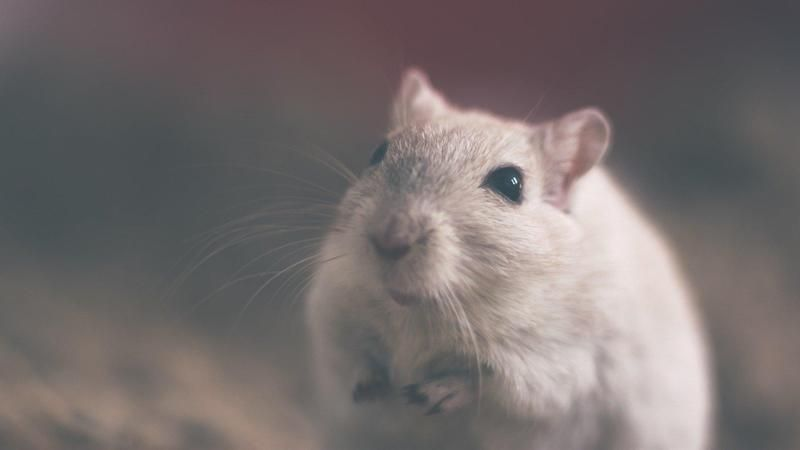mouse: (308, 66, 669, 435)
